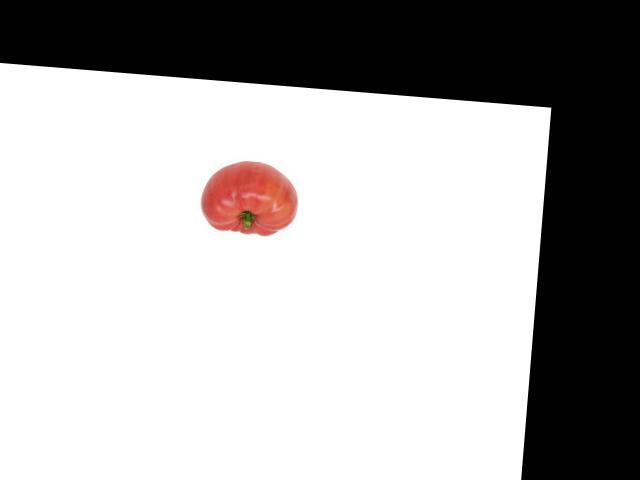tomato: (199, 158, 301, 236)
